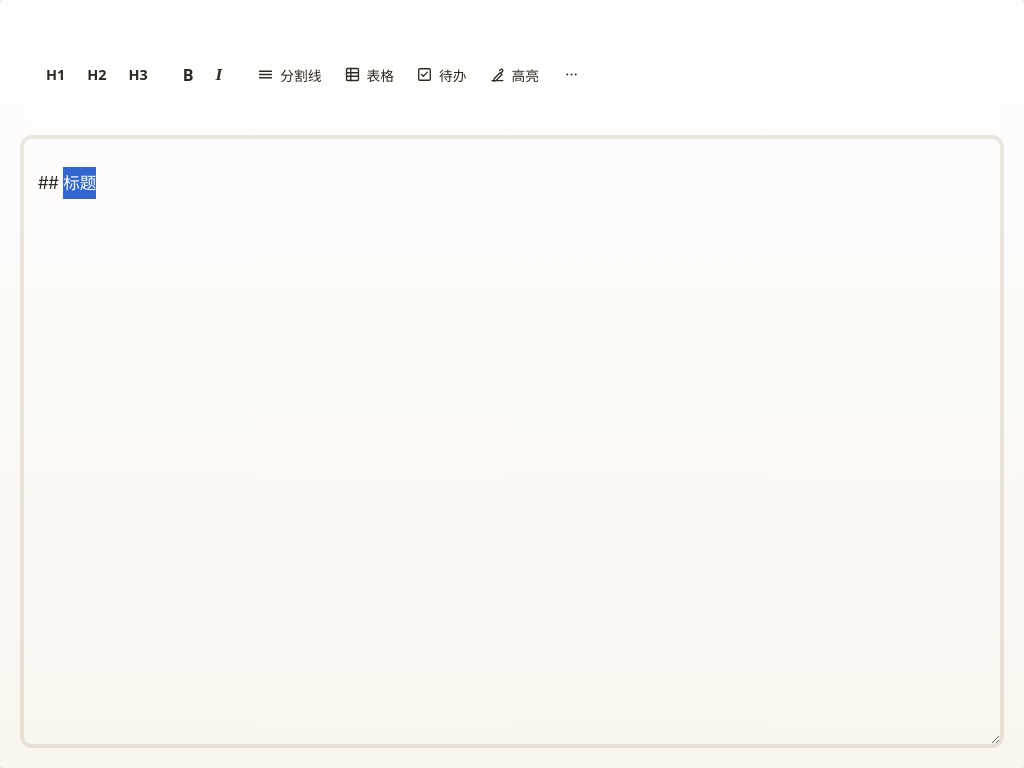
Test: markdown editor › removes the current heading marker when its active heading button is clicked again
Step 1. Click the button named "二级标题" → (97, 74), box [77,58,117,92]
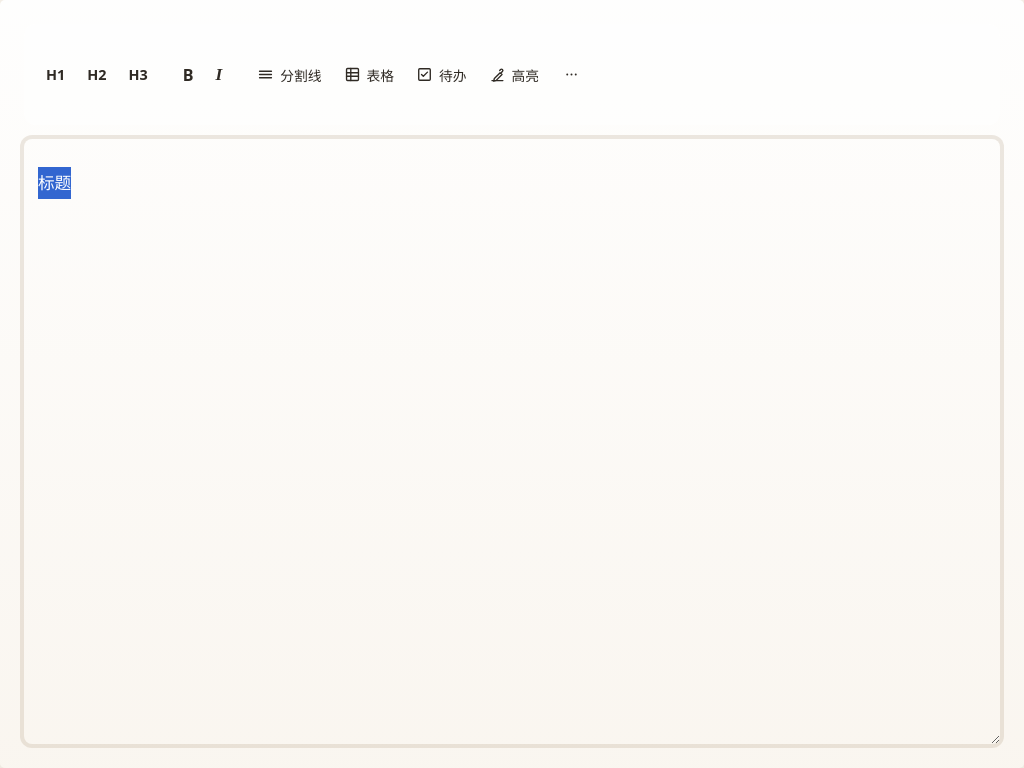
Result: the text box named "Markdown 编辑器" holds "标题"
